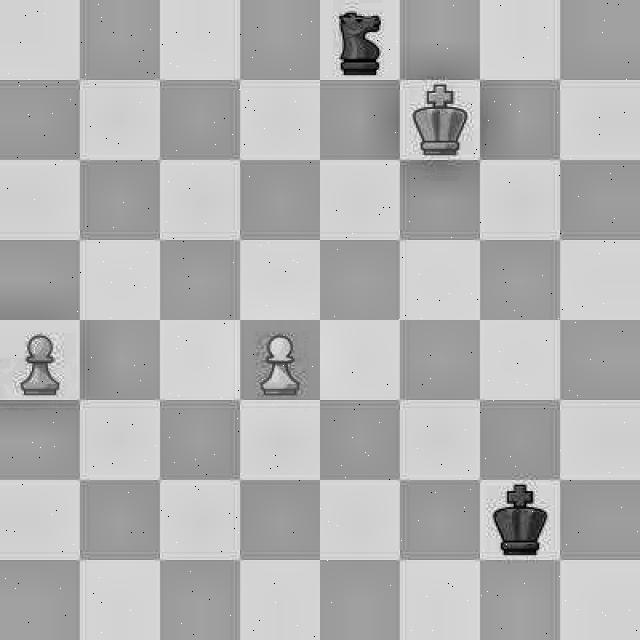Black Knight: (321, 0, 401, 78)
black king: (482, 482, 566, 564)
white king: (404, 78, 486, 160), (5, 323, 79, 397)
white pawn: (242, 323, 318, 396)
